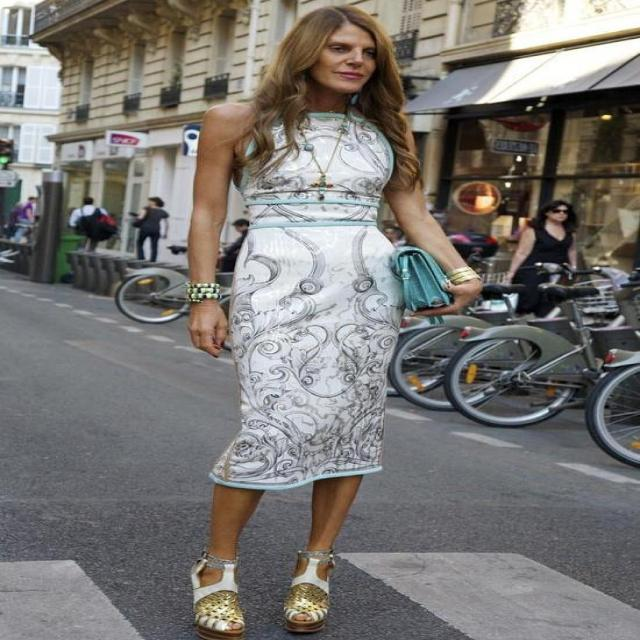dress: (209, 100, 411, 492)
